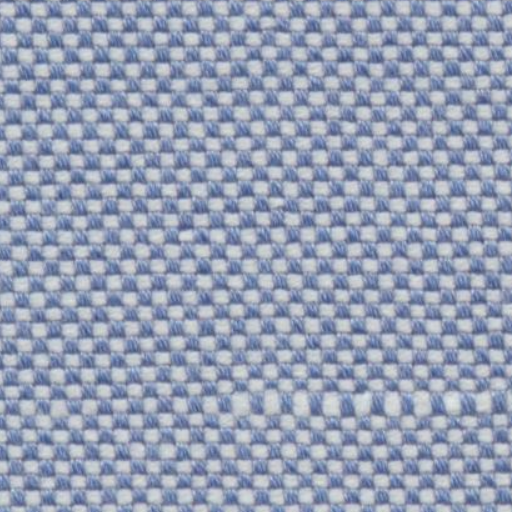DaiSha: (222, 371, 506, 422)
